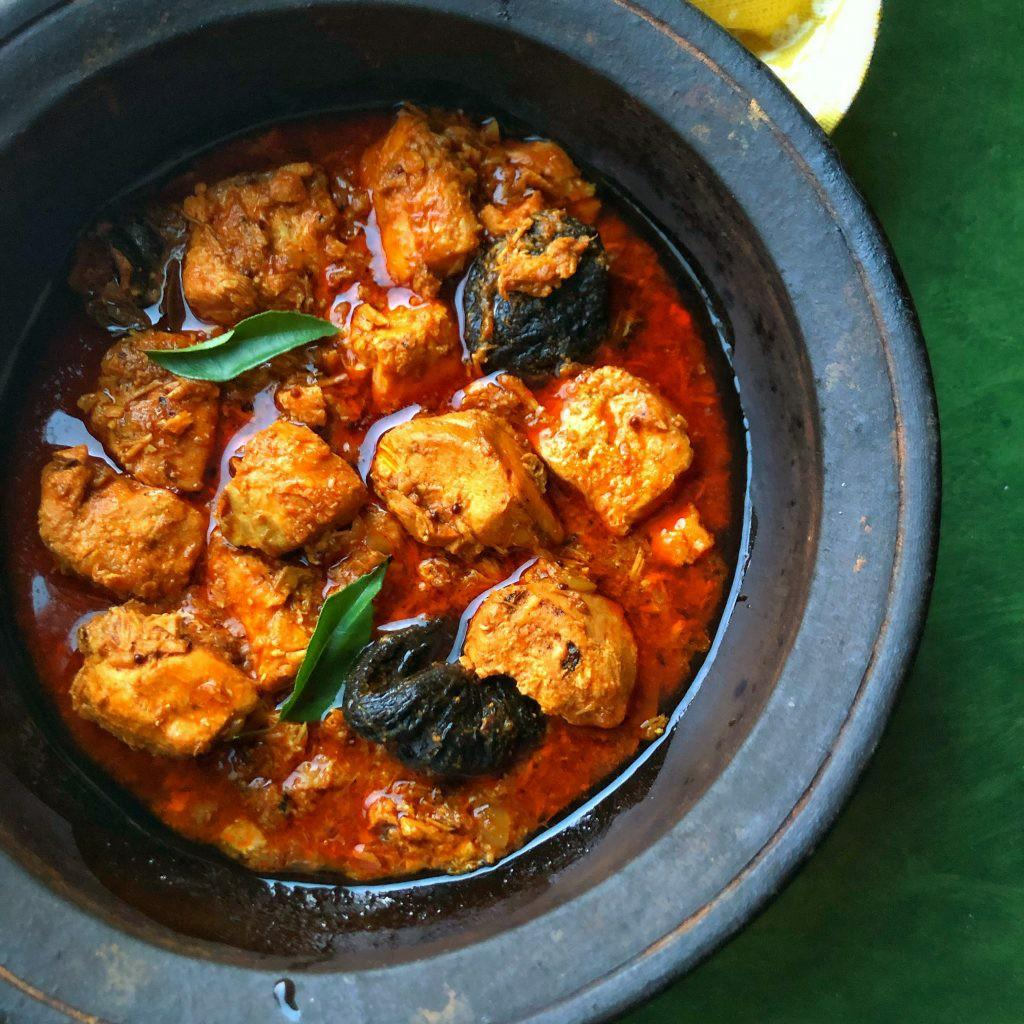FishCurry: (0, 91, 750, 893)
